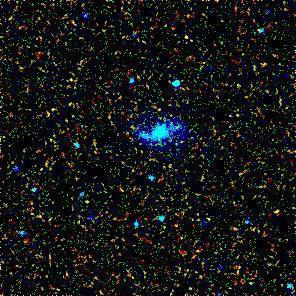star: (263, 193, 293, 223)
